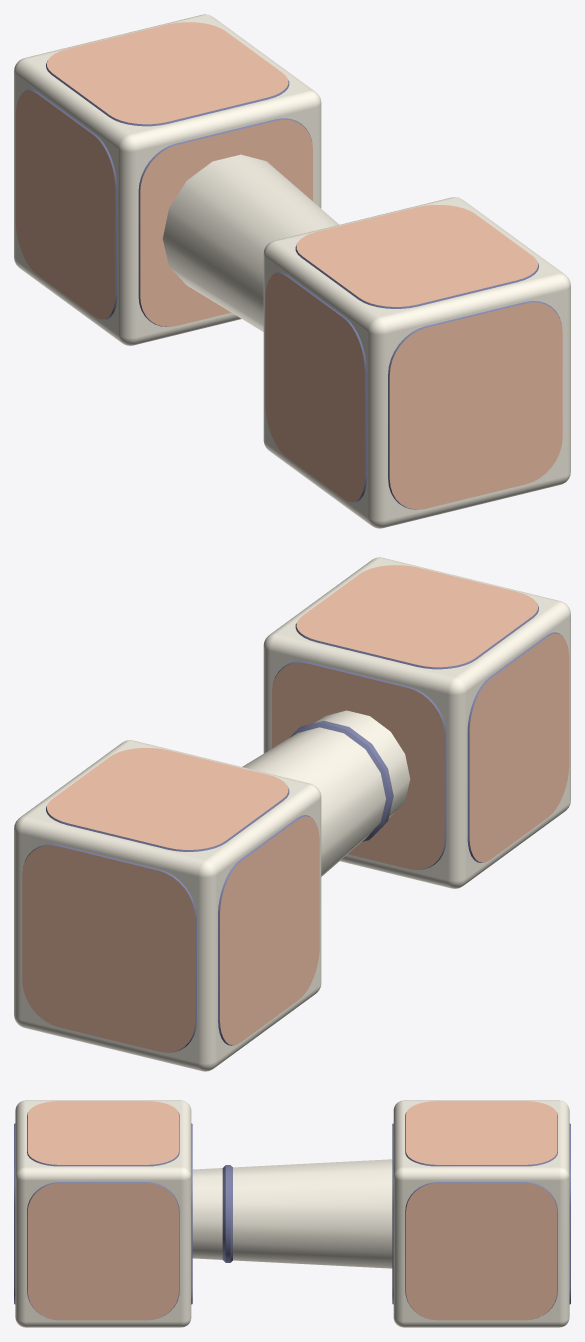
The model's file is R4C_STRUT_STANDARD.fbx.
The picture shows the model from 3 angles, top to bottom: view 1: azimuth 30°, elevation 25°; view 2: azimuth 150°, elevation 25°; view 3: azimuth 270°, elevation 25°; orthographic projection. The views are drawn at different scales.
Parts seen in each view (by area): view 1: R4C_STRUT_STANDARD; view 2: R4C_STRUT_STANDARD; view 3: R4C_STRUT_STANDARD.
Boxes of the visible parts, x1,y1,x2,y2 form: R4C_STRUT_STANDARD: [14, 14, 570, 528]; R4C_STRUT_STANDARD: [14, 557, 570, 1071]; R4C_STRUT_STANDARD: [14, 1100, 570, 1327].
Size of the model in its own units: 0.52 by 0.52 by 1.62.
